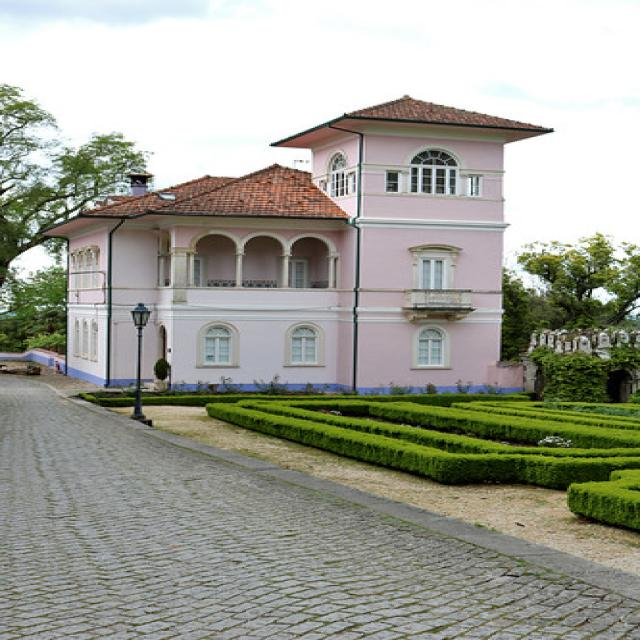building: (41, 91, 562, 402)
